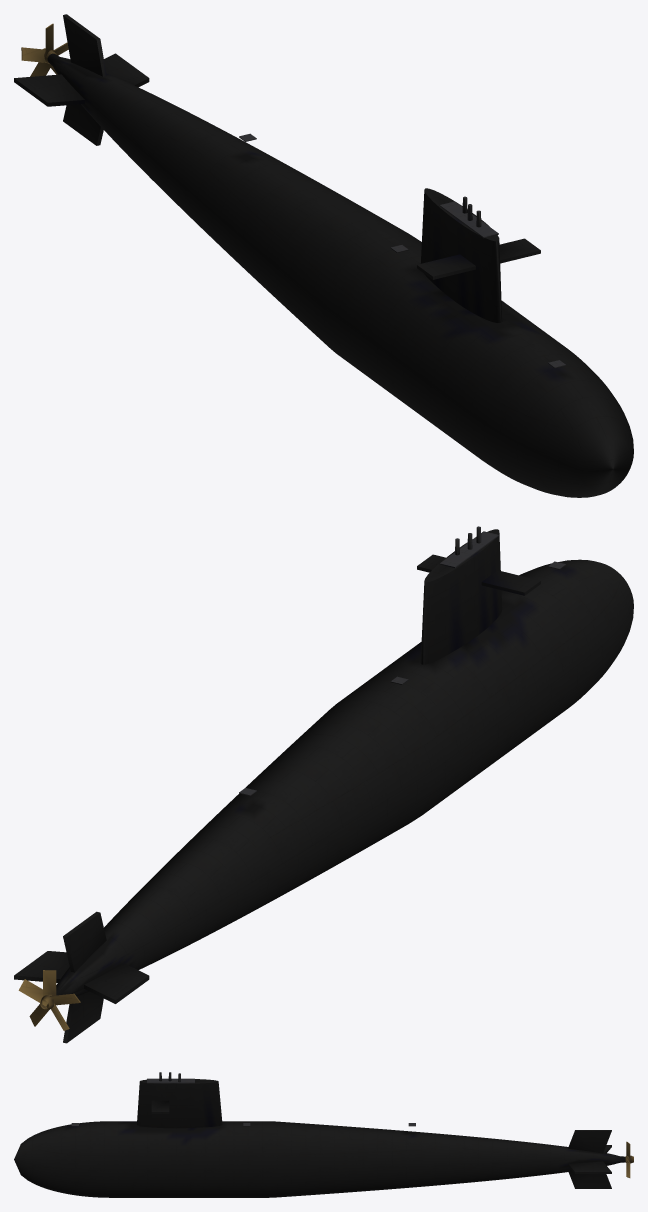
File: model_built.glb
The picture shows the model from 3 angles, top to bottom: view 1: azimuth 30°, elevation 25°; view 2: azimuth 150°, elevation 25°; view 3: azimuth 270°, elevation 25°; orthographic projection. The views are drawn at different scales.
Visible parts, largest first — view 1: boat; view 2: boat; view 3: boat.
Boxes of the visible parts, x1=… form: boat: x1=14, y1=14, x2=633, y2=497; boat: x1=14, y1=526, x2=633, y2=1043; boat: x1=14, y1=1072, x2=633, y2=1197.
Bounding box in the file's own units: 9.6 × 16.8 × 77.6.
Materials: 1 (1 with a texture image).
